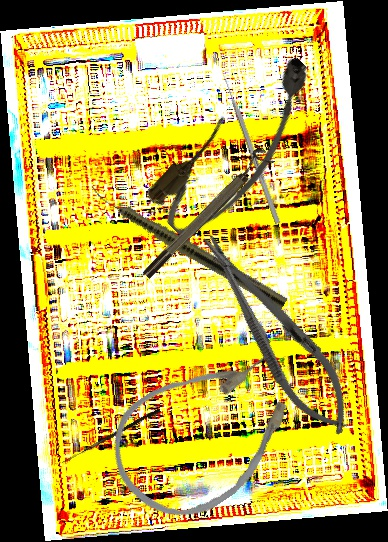Cannula: (90, 325, 323, 542), (140, 46, 339, 249)
Fixation Ring: (135, 144, 276, 282)
Handpiece: (85, 182, 290, 312)
Hook Surgical: (61, 406, 162, 468)
Needle Holder: (184, 219, 369, 448)
Pusher: (219, 67, 281, 225)
